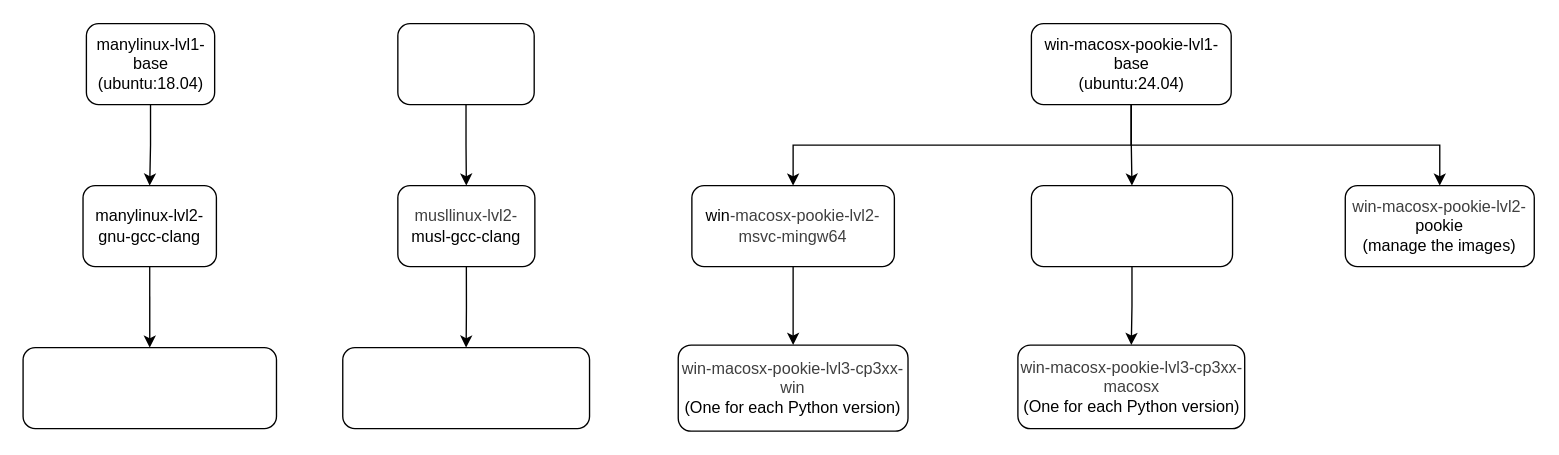
Some shapes in this 1559 by 455 pixel diagram are drawn without their labels. The box of each missing label's shape, as (x1, y1, x2, y2) in pixels:
manylinux- lvl3 - cp3xx-manylinux_2_17 (One for each Python version): (22, 346, 276, 429)
musllinux - lvl3 - cp3xx-musllinux_1_2 (One for each Python version): (341, 346, 590, 429)
musllinux-lvl1-base (alpine:3.14): (396, 22, 534, 105)
win-macosx-pookie-lvl2- osxcross: (1030, 184, 1233, 267)
